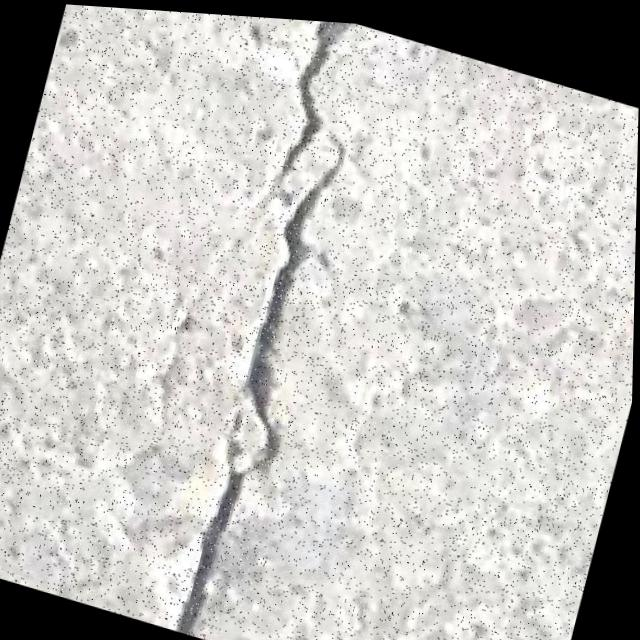Crack: (135, 8, 399, 640)
